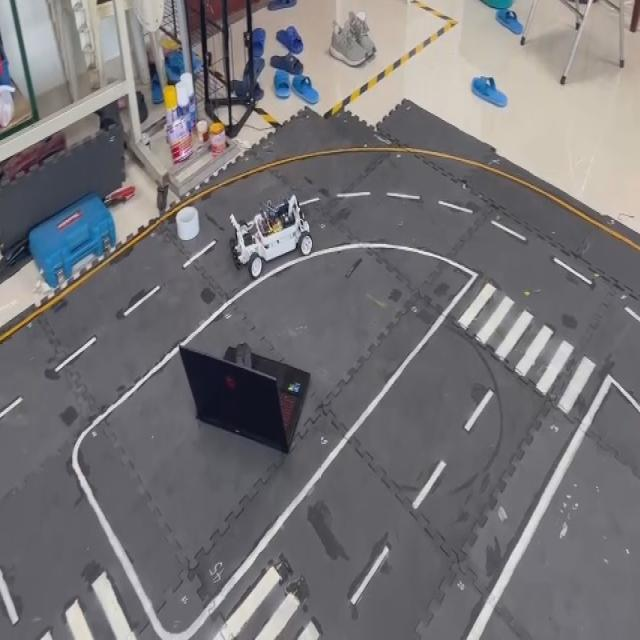SiCo-CAR: (27, 189, 116, 291), (228, 192, 313, 279)
